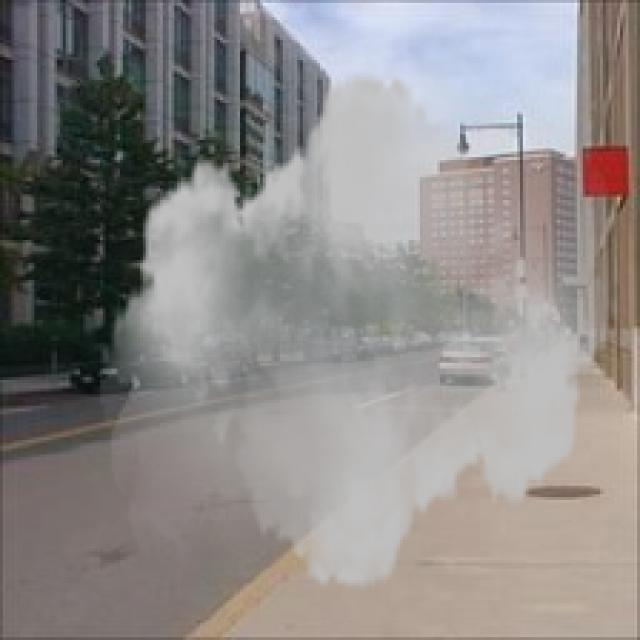smoke: (100, 51, 620, 612)
